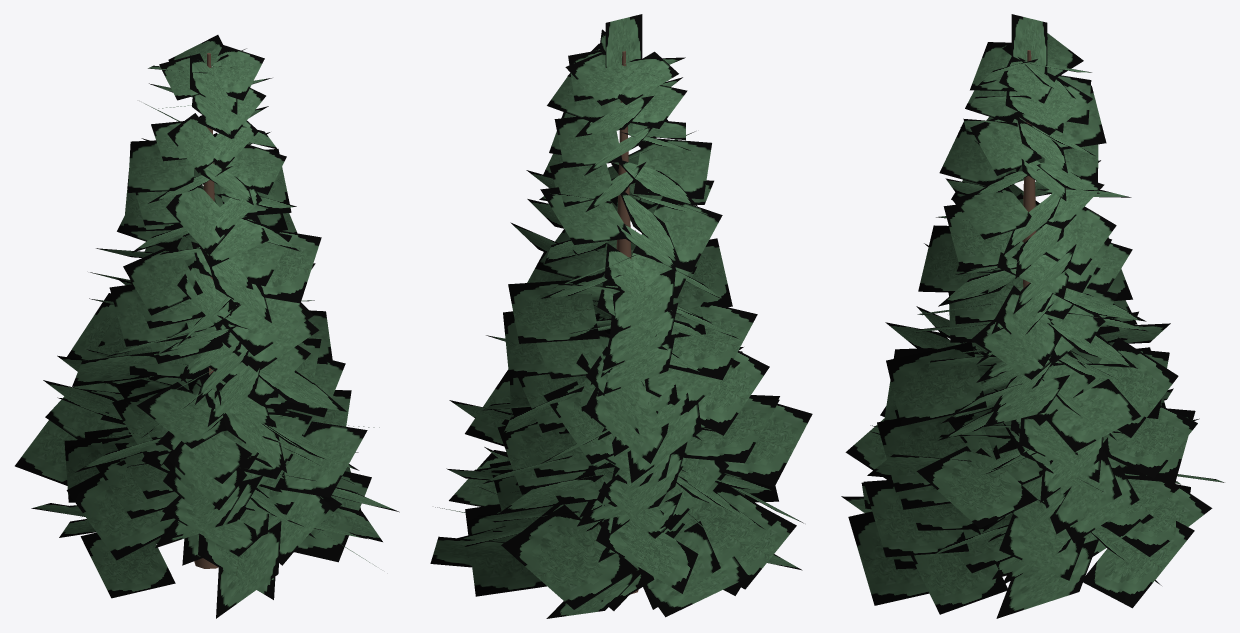
Rendered from pine_3_mid.glb.
3 renders of one model, left to right at view 1: azimuth 30°, elevation 25°; view 2: azimuth 150°, elevation 25°; view 3: azimuth 270°, elevation 25°, orthographic. The views are drawn at different scales.
Visible parts, largest first — view 1: pine_3_mid; view 2: pine_3_mid; view 3: pine_3_mid.
Part boxes in pixels (box(x1,y1,x2,y2)): pine_3_mid: box(15, 35, 399, 618); pine_3_mid: box(430, 14, 812, 618); pine_3_mid: box(841, 14, 1224, 618).
Size of the model in its own units: 7.51 by 12.45 by 7.86.
2 materials, 1 textured.
